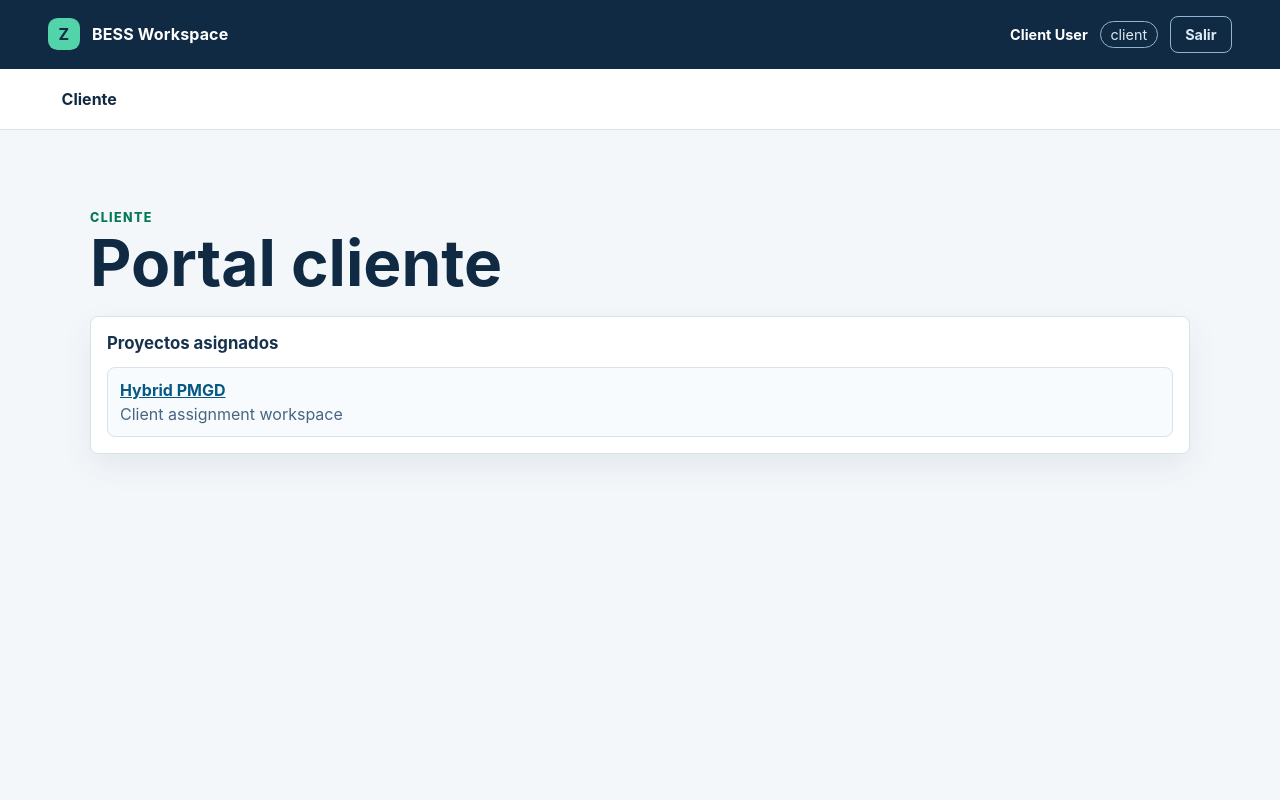
it: application shell › renders the read-only client portal and clears protected data after authorization failure
This screenshot has width=1280, height=800.
Expected: the heading "Portal cliente" is shown, [90,224,502,301]
What coordinates should you click on to do the following:
click the link "Hybrid PMGD"
I would click on:
 (173, 390)
Its box is [120,380,226,400].
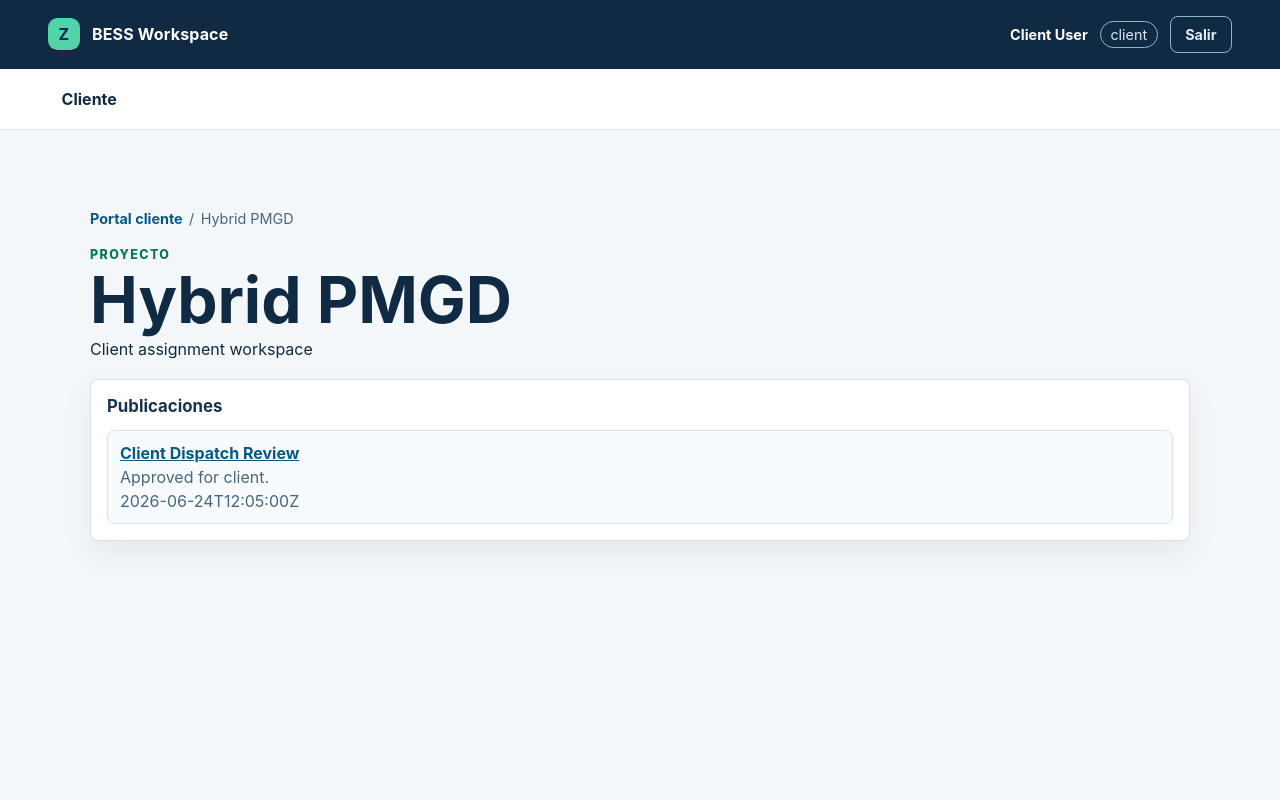
Expected: the heading "Hybrid PMGD" is shown, [90,261,512,338]
Expected: the link "Client Dispatch Review" is shown
What coordinates should you click on to do the following:
click the link "Client Dispatch Review"
I would click on:
 (210, 453)
Its box is [120,443,299,463].
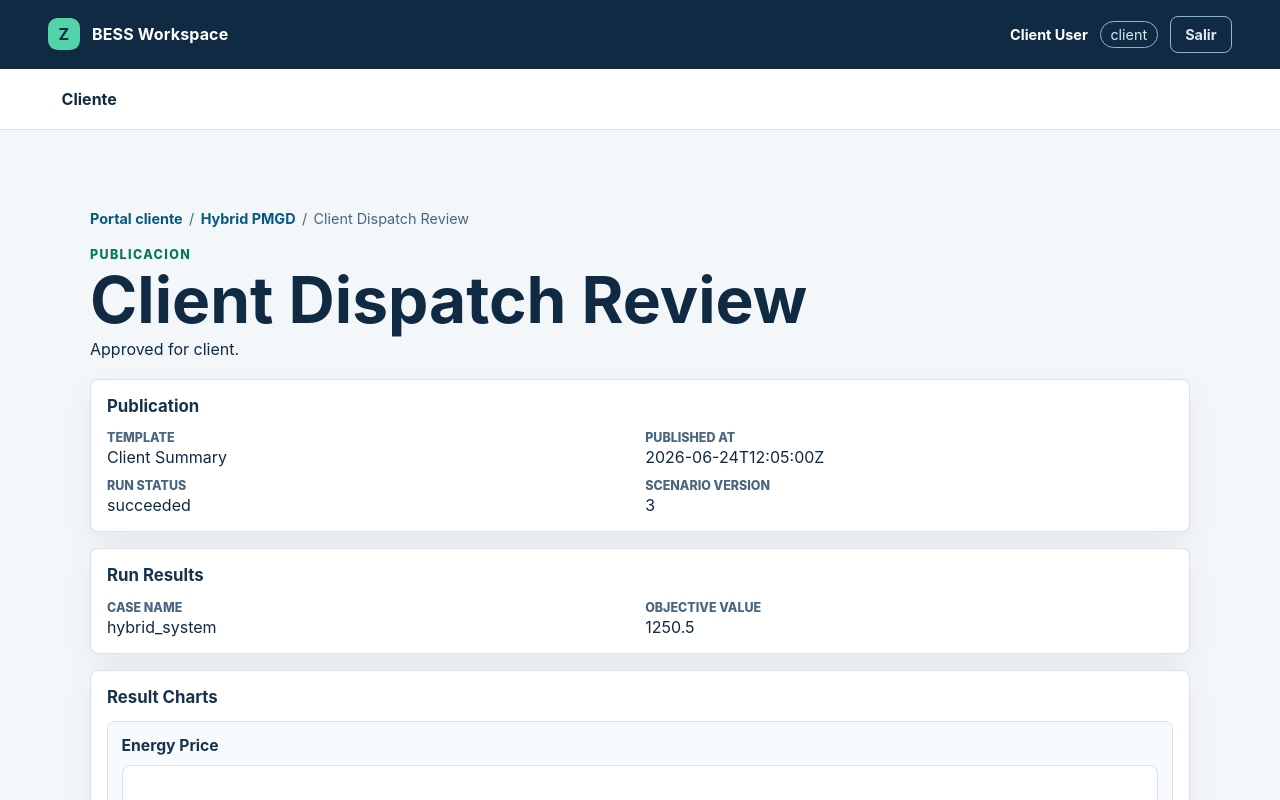
Expected: the text "Approved for client." is shown, [90,339,239,359]
Expected: the heading "Client Dispatch Review" is shown, [90,267,867,333]
Expected: the text "succeeded" is shown, [107,495,191,515]
What coordinates should you click on to do the following:
click the link "Cliente"
I would click on:
 (89, 99)
Its box is [62,89,117,109].
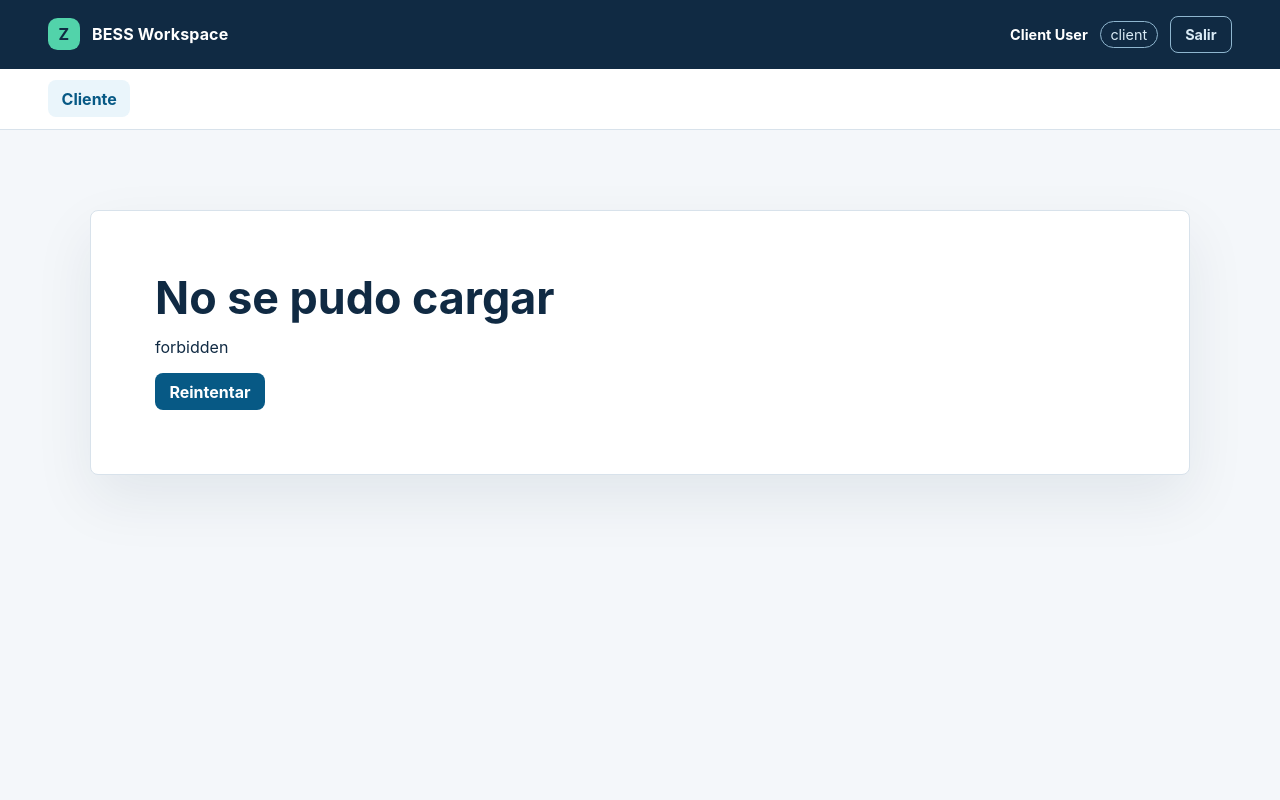
Expected: the heading "No se pudo cargar" is shown, [155,271,555,325]
Expected: the text "Client Dispatch Review" is gone
Expected: the link "Hybrid PMGD" is gone
